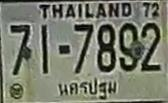1: (41, 24, 47, 72)
2: (140, 22, 160, 70)
7: (10, 24, 31, 74), (73, 23, 93, 73)
8: (96, 23, 114, 71)
9: (118, 22, 139, 70)
NPT: (54, 76, 121, 101)
